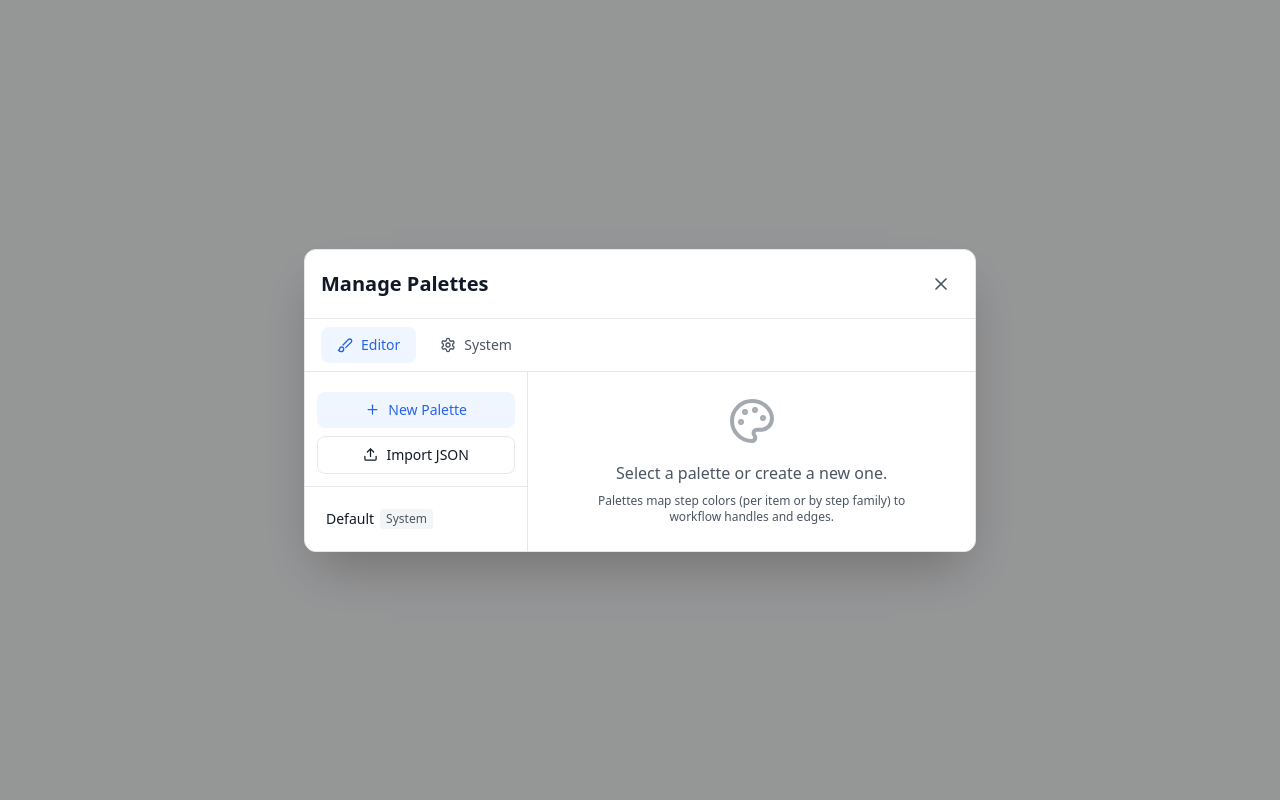
PaletteManager › switches to System tab when clicked
Expected: the heading "Manage Palettes" is shown, x1=321 y1=270 x2=488 y2=298
Click the button "System".
click(476, 344)  # box x1=424 y1=326 x2=528 y2=362
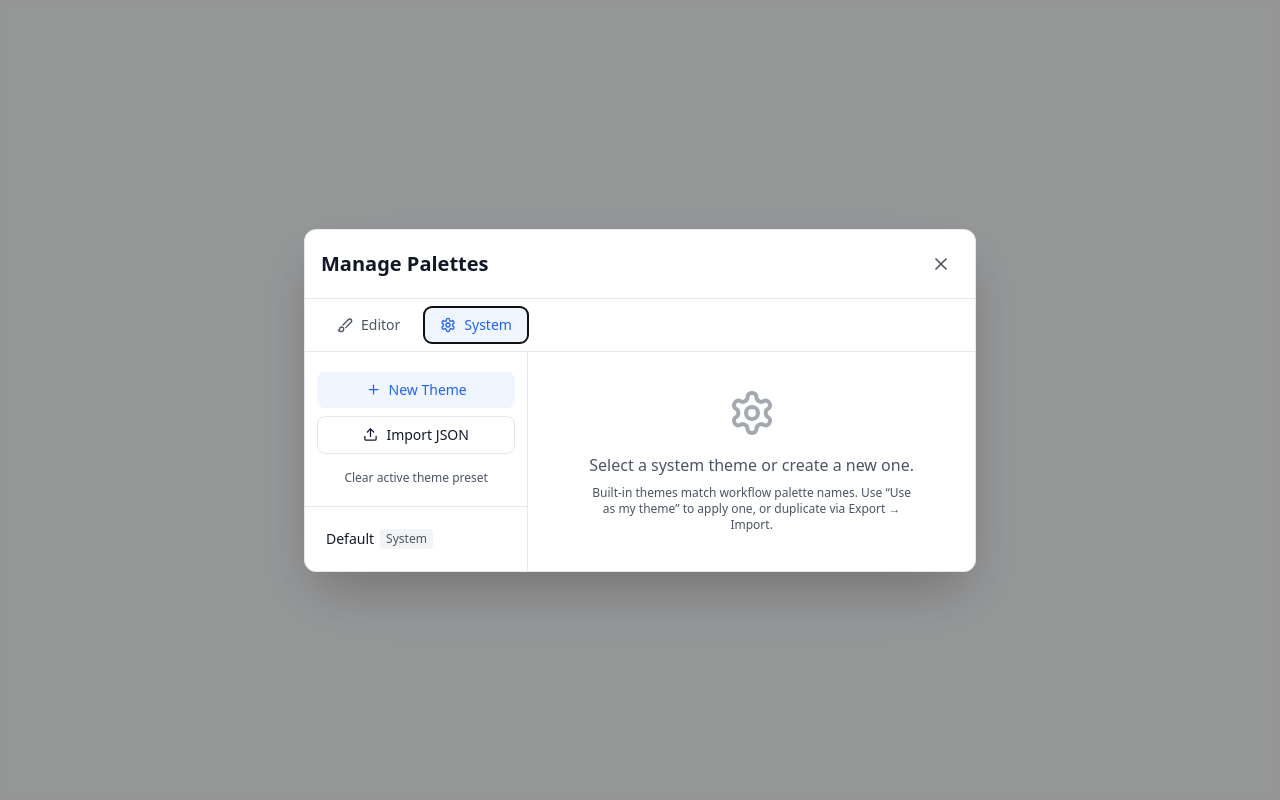
Expected: the text "Default" is shown, x1=326 y1=528 x2=374 y2=548
Now the button "New Theme" is shown, box x1=317 y1=372 x2=515 y2=408
